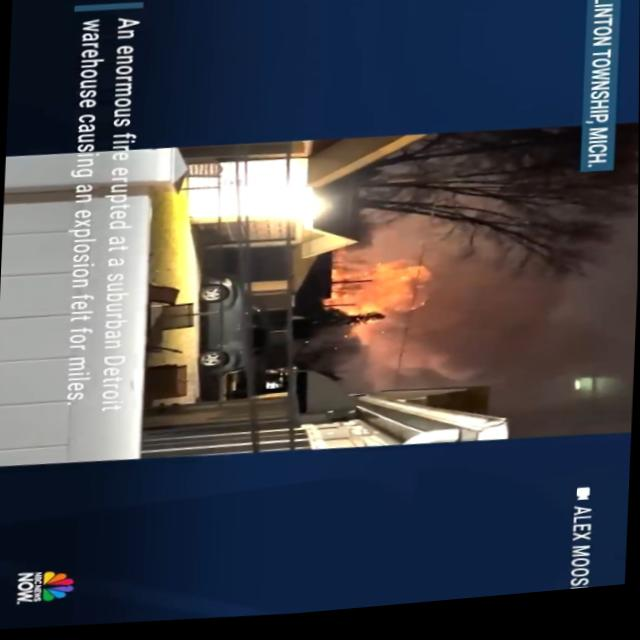Fire: (329, 262, 391, 325)
